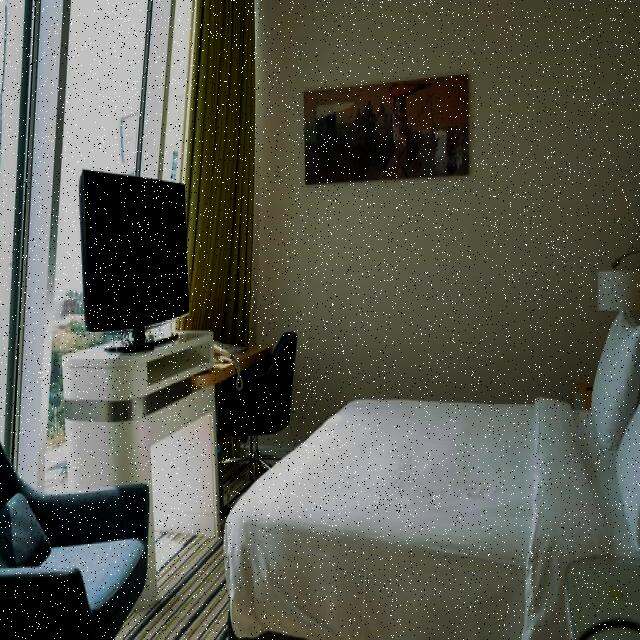bed: (235, 312, 640, 610)
